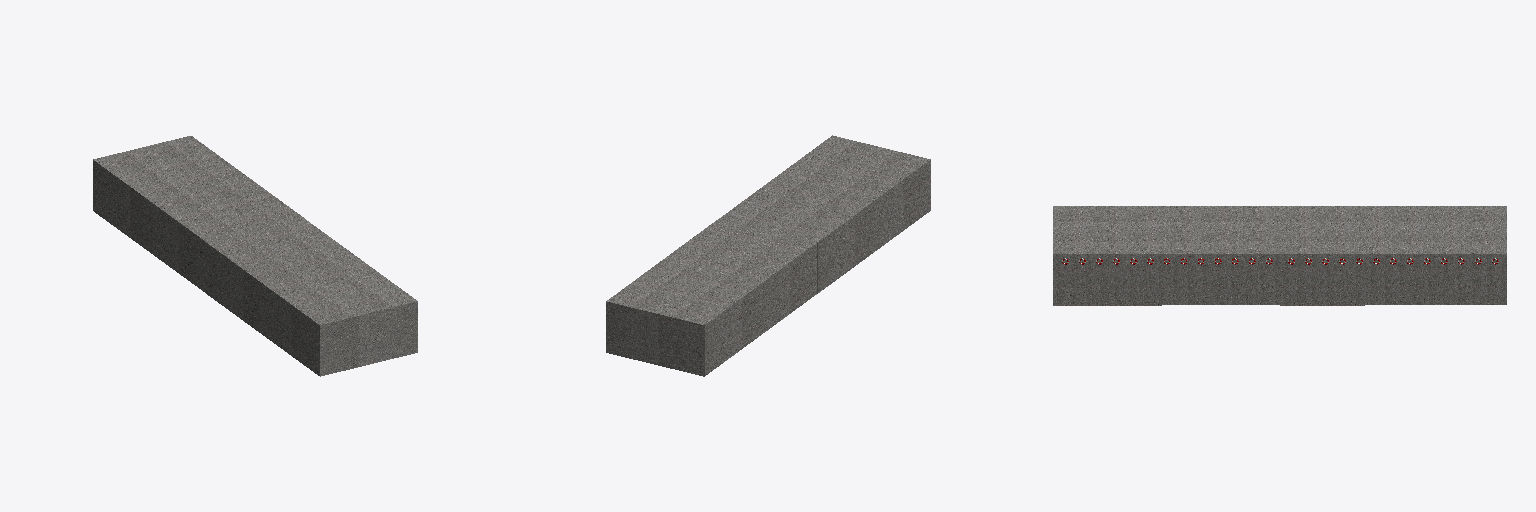
The picture shows the model from 3 angles: view 1: azimuth 30°, elevation 25°; view 2: azimuth 150°, elevation 25°; view 3: azimuth 270°, elevation 25°; orthographic projection.
Parts seen in each view (by area): view 1: Cube.002, Cube.001; view 2: Cube.001, Cube.002; view 3: Cube.001, Cube.002.
Part boxes in pixels (bbox=[...]): Cube.002: bbox=[206, 219, 417, 376]; Cube.001: bbox=[93, 136, 304, 292]; Cube.001: bbox=[606, 218, 816, 376]; Cube.002: bbox=[720, 135, 930, 293]; Cube.001: bbox=[1279, 206, 1506, 305]; Cube.002: bbox=[1053, 206, 1279, 305].
Size of the model in its own units: 20.27 by 10 by 79.88.
2 materials, 2 textured.